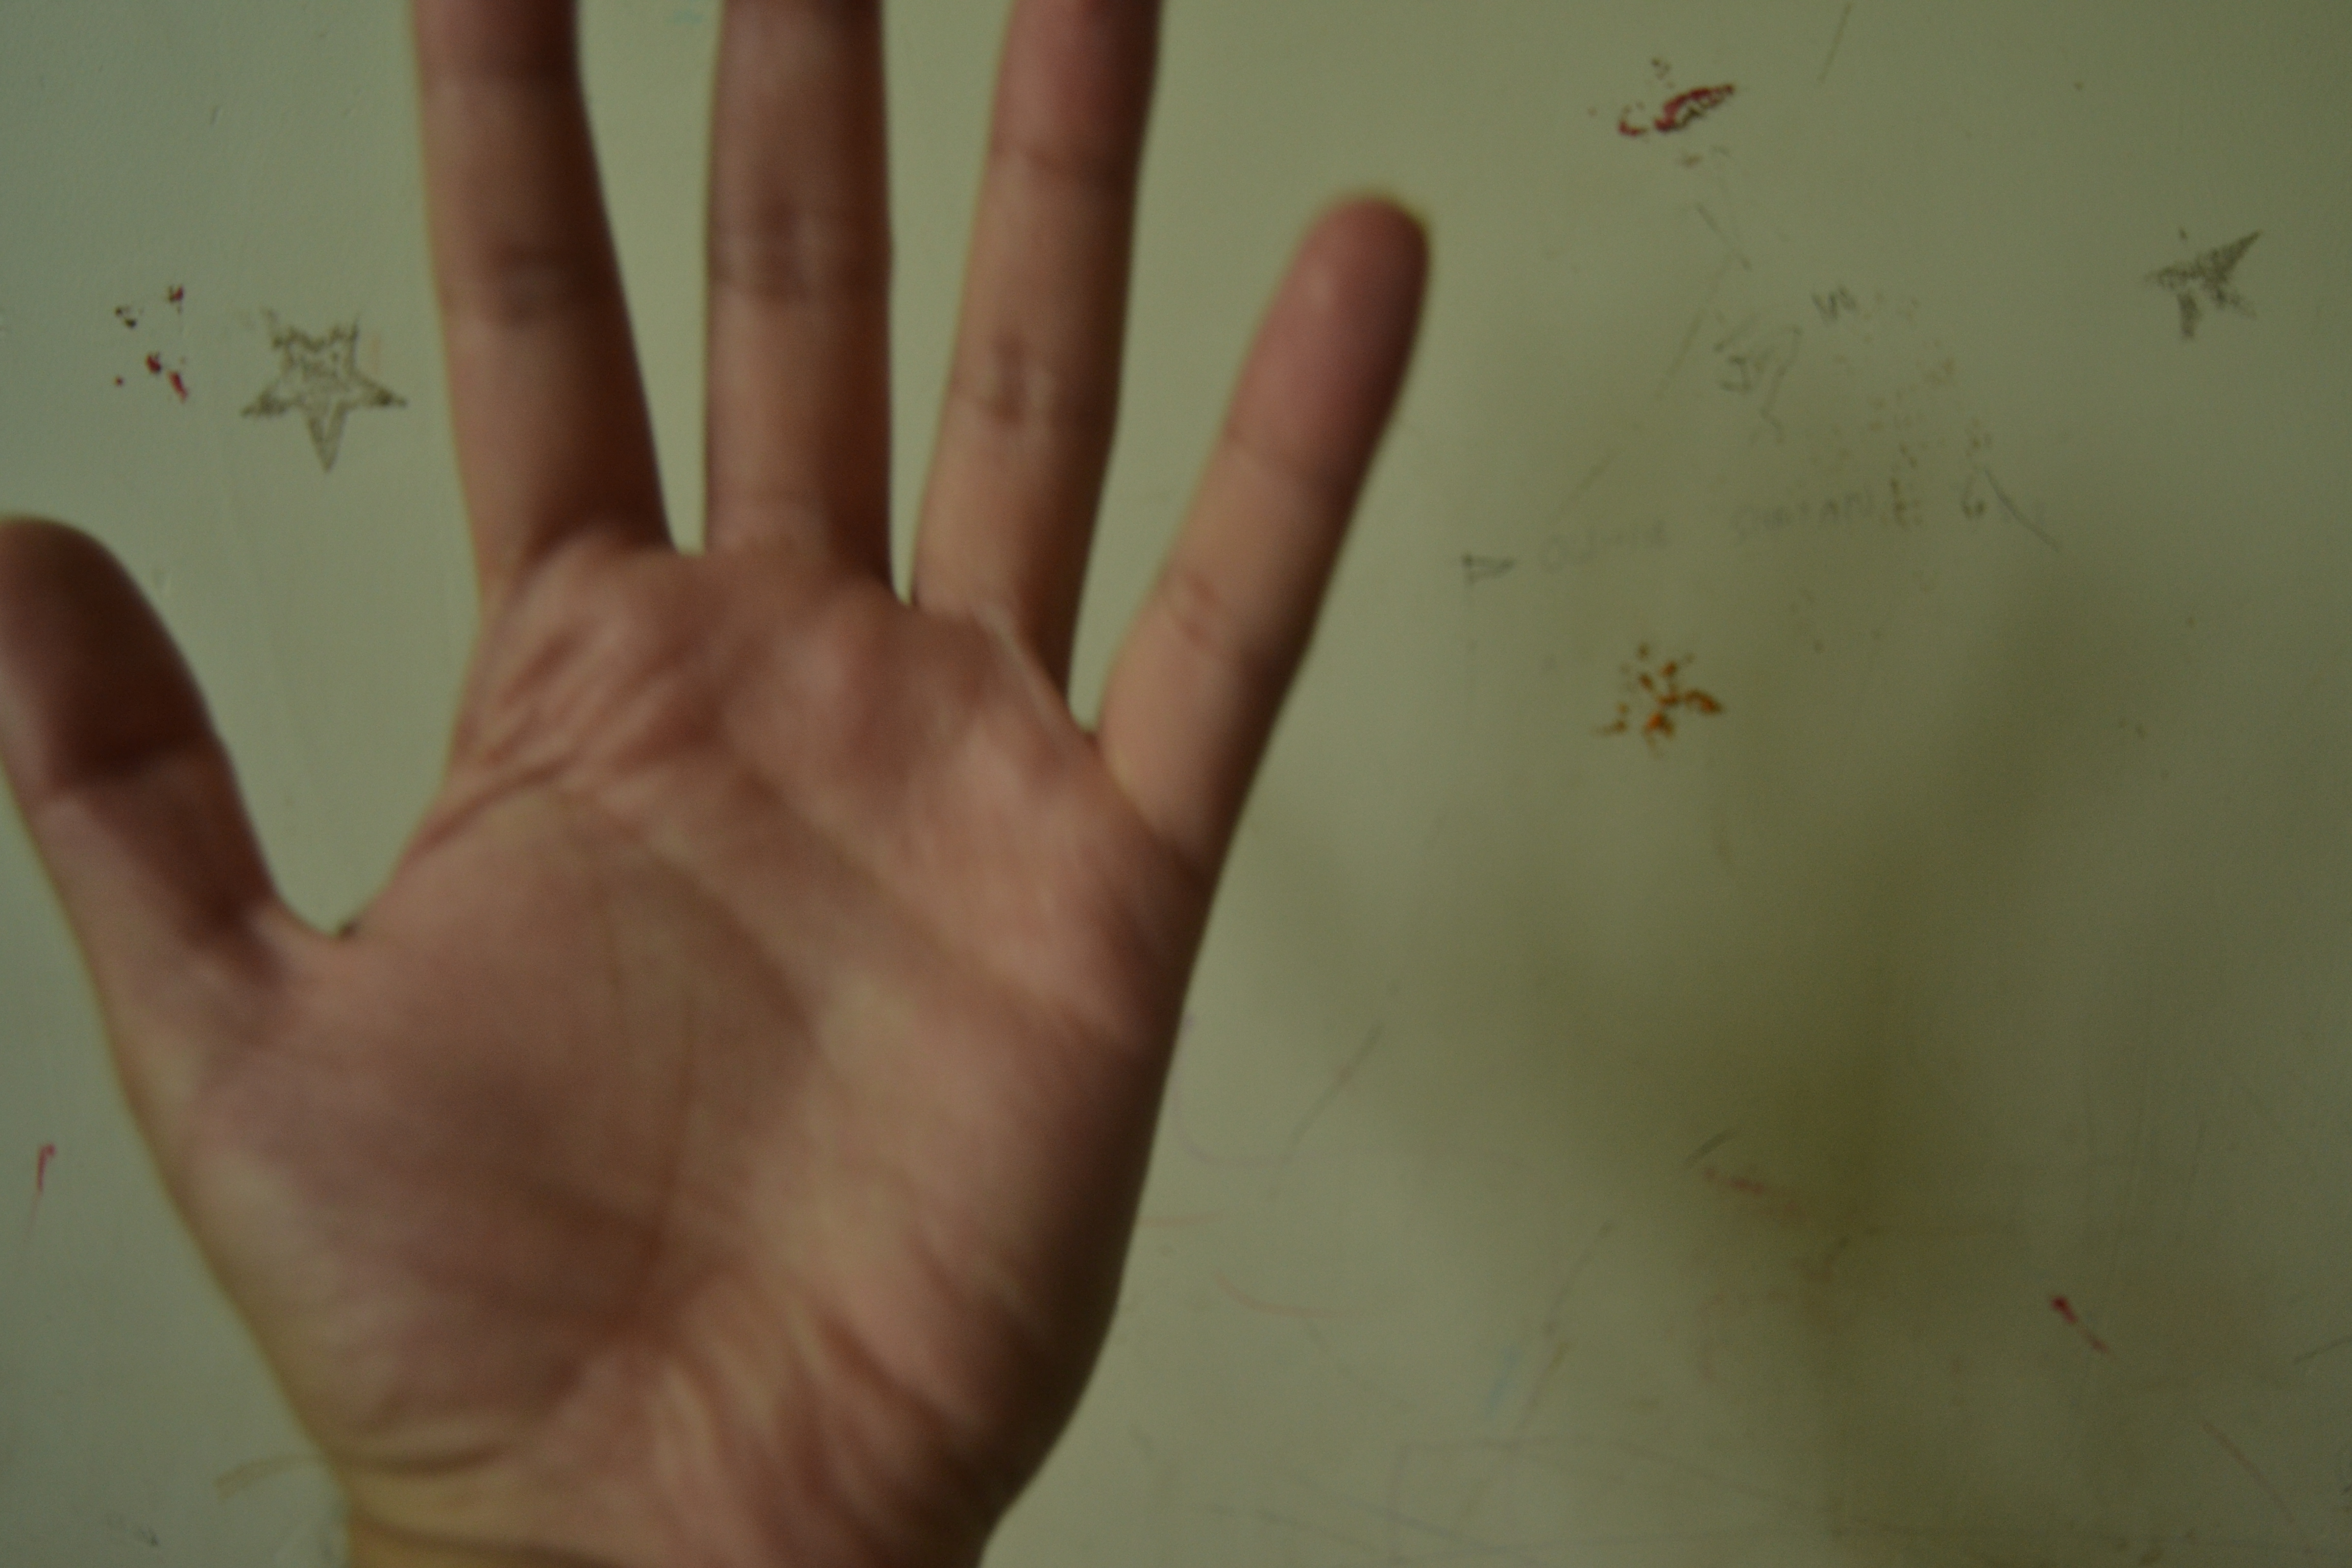move: (0, 33, 1517, 1363)
